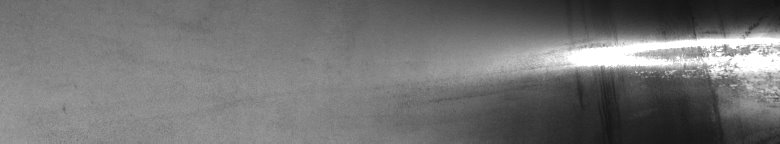ke: (424, 12, 776, 136)
